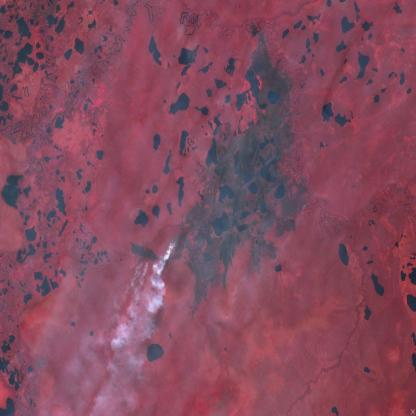fire: (133, 230, 190, 274)
